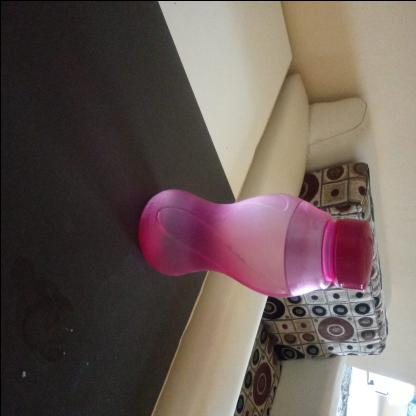bottle: (192, 45, 277, 361)
